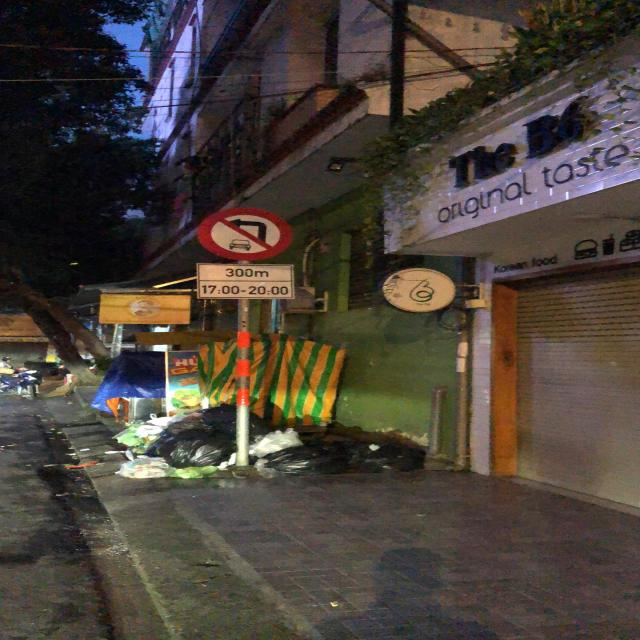Bien bao cam xe o to re trai: (191, 204, 297, 262)
